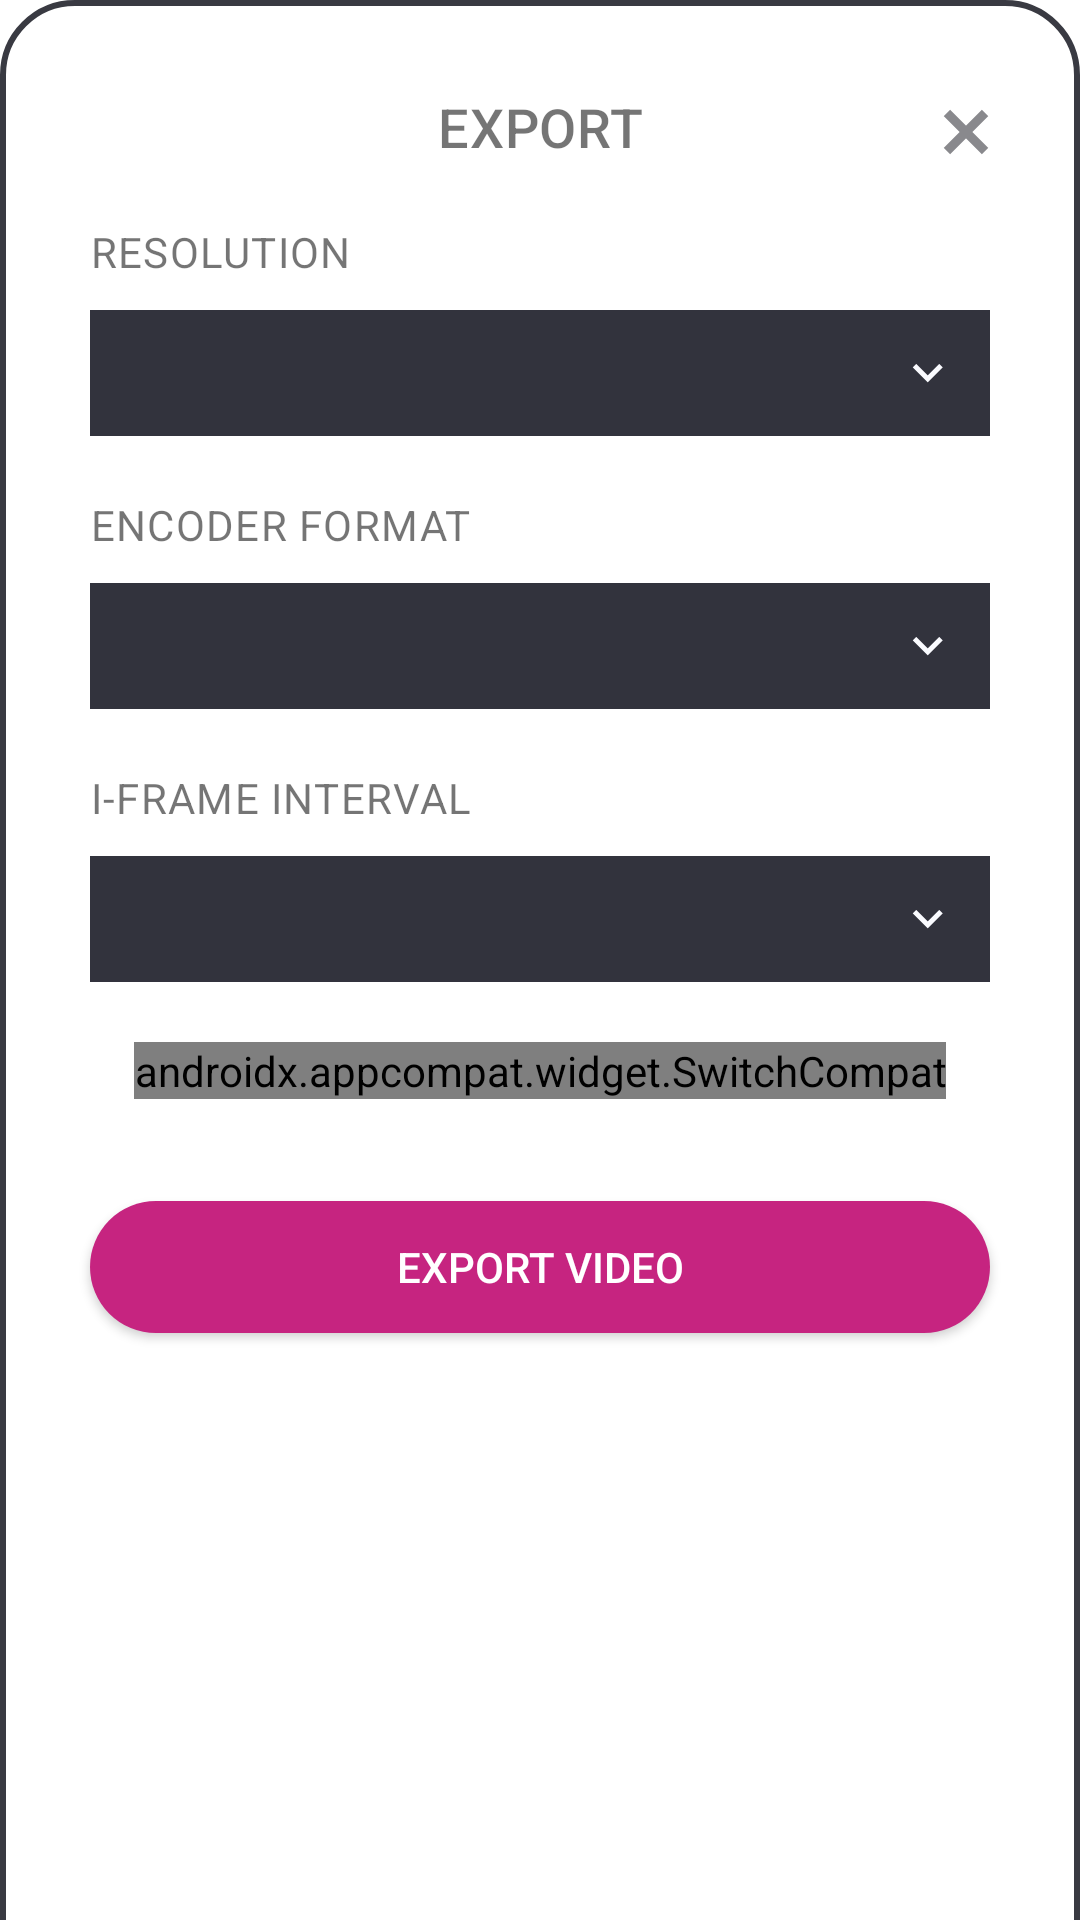

Icons on this 1080px×1920px Android screen, each with its box as {"x1": x1, "y1": y1, "x2": x2, "y2": y2}:
chevron down: {"x1": 913, "y1": 364, "x2": 943, "y2": 383}, {"x1": 913, "y1": 637, "x2": 943, "y2": 656}, {"x1": 913, "y1": 910, "x2": 943, "y2": 929}
close: {"x1": 944, "y1": 110, "x2": 988, "y2": 154}
